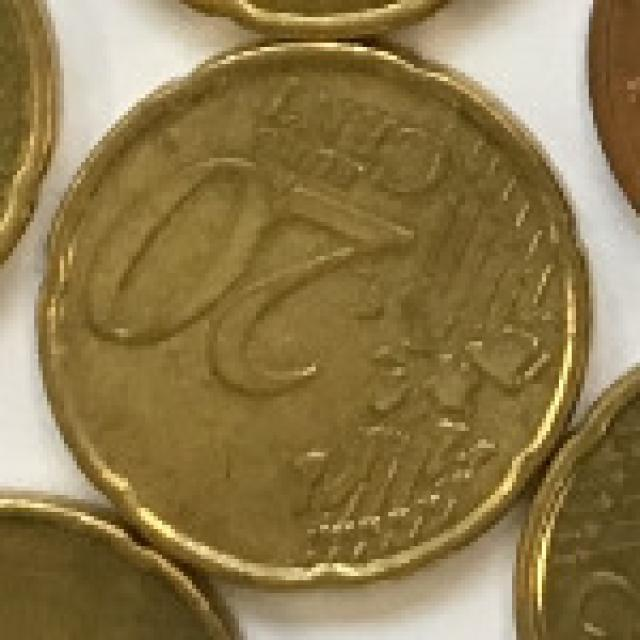20c: (17, 21, 610, 602)
